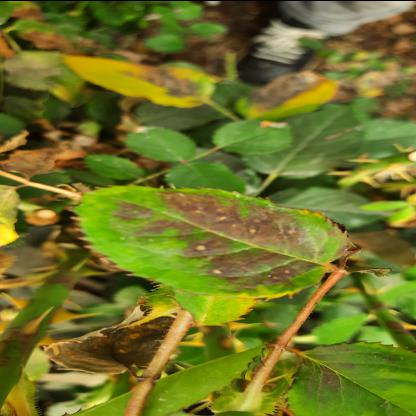downy-mildew: (75, 176, 352, 295), (280, 343, 410, 415), (60, 56, 219, 108), (236, 65, 338, 120)
